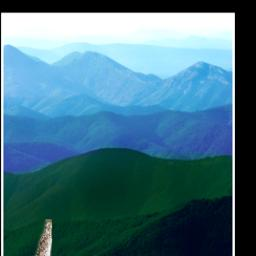Sparrow: (30, 219, 53, 256)
